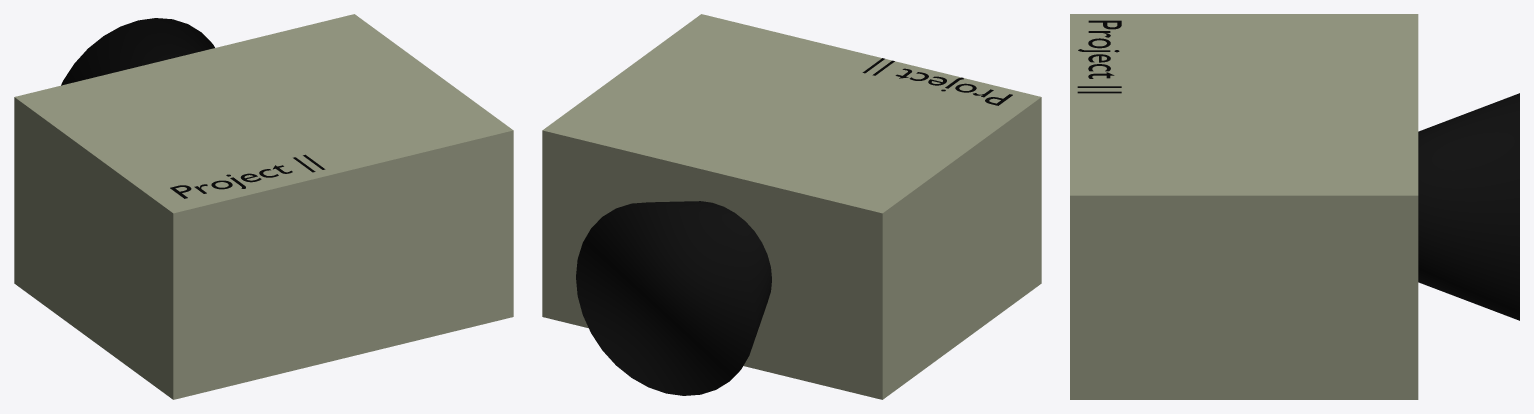
Rendered from projector.obj.
3 views of the same model, side by side, from view 1: azimuth 30°, elevation 25°; view 2: azimuth 150°, elevation 25°; view 3: azimuth 270°, elevation 25° (orthographic). The views are drawn at different scales.
Visible parts, largest first — view 1: Cube, Cone_Cone.003, Text; view 2: Cube, Cone_Cone.003, Text; view 3: Cube, Cone_Cone.003, Text.
Part boxes in pixels (box(x1,y1,x2,y2)): Cube: box(14, 14, 513, 399); Cone_Cone.003: box(61, 18, 214, 85); Text: box(170, 154, 325, 198); Cube: box(542, 14, 1041, 399); Cone_Cone.003: box(576, 201, 771, 395); Text: box(862, 58, 1012, 105); Cube: box(1070, 14, 1418, 399); Cone_Cone.003: box(1418, 93, 1519, 320); Text: box(1077, 20, 1121, 93).
Size of the model in its own units: 0.9329 by 0.5008 by 0.9758.
